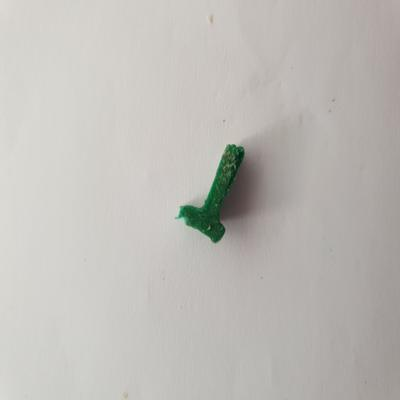plastic: (174, 141, 251, 250)
